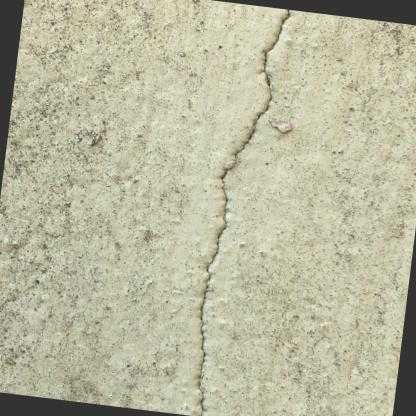crack: (199, 8, 290, 416)
